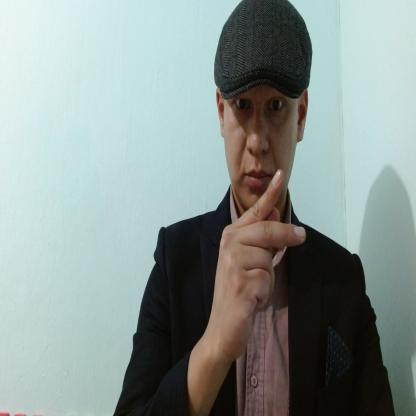P: (208, 167, 308, 361)
